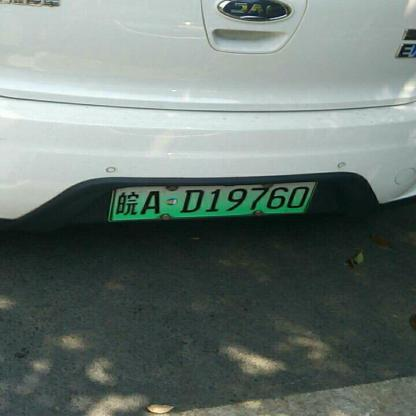lp: (112, 182, 317, 219)
